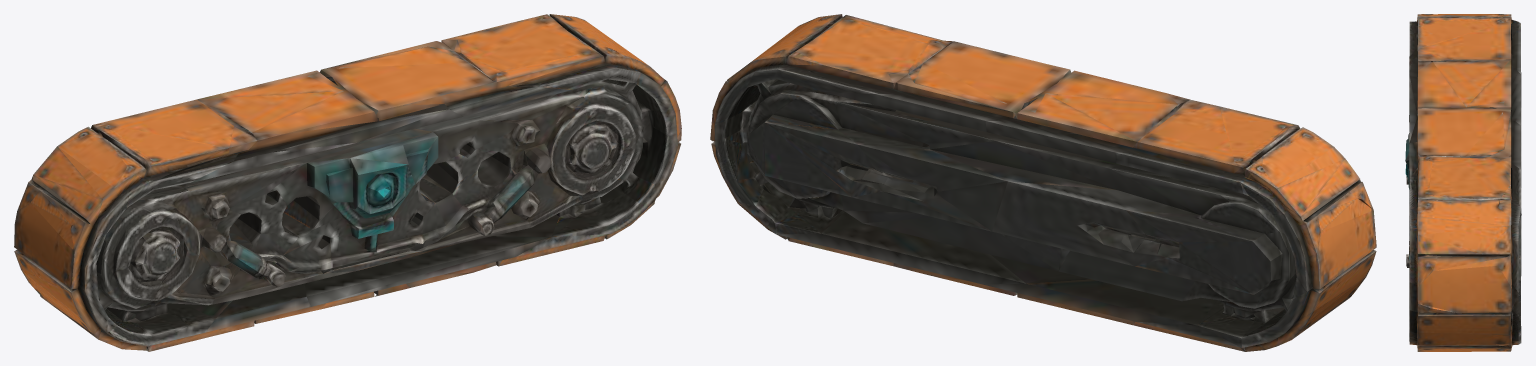
File: treadframe.glb
3 views of the same model, side by side, from view 1: azimuth 30°, elevation 25°; view 2: azimuth 150°, elevation 25°; view 3: azimuth 270°, elevation 25° (orthographic). The views are drawn at different scales.
Parts seen in each view (by area): view 1: Mesh_0; view 2: Mesh_0; view 3: Mesh_0.
Part boxes in pixels (box(x1,y1,x2,y2)): Mesh_0: box(14, 14, 681, 351); Mesh_0: box(710, 14, 1376, 351); Mesh_0: box(1405, 14, 1521, 351).
Size of the model in its own units: 1.54 by 0.45 by 0.3097.
Materials: 1 (1 with a texture image).
